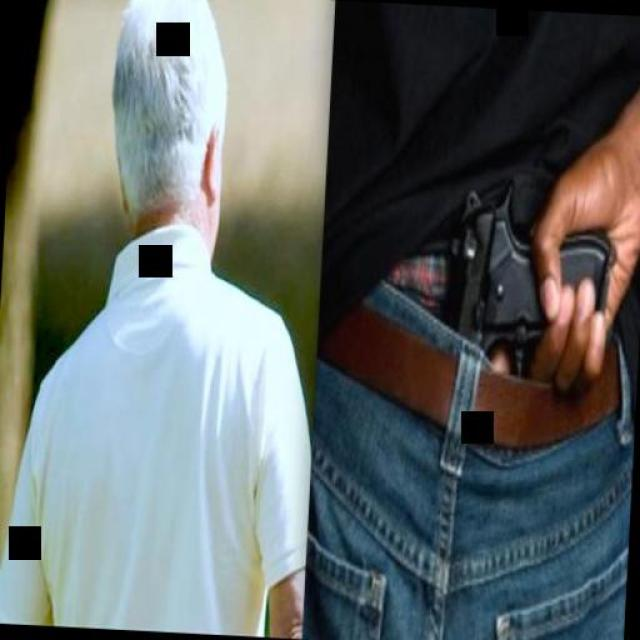gun: (448, 149, 624, 415)
